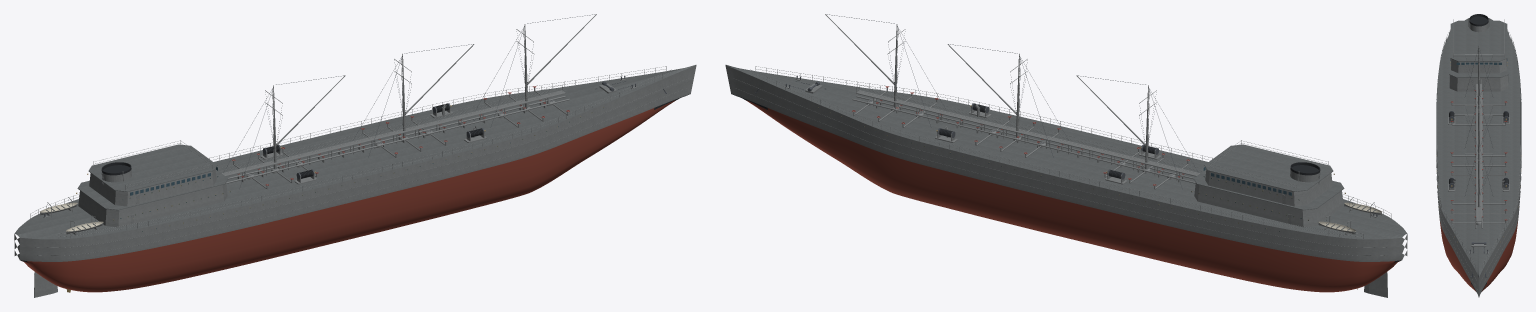
Rendered from maru_depot_t23.glb.
3 views of the same model, side by side, from view 1: azimuth 30°, elevation 25°; view 2: azimuth 150°, elevation 25°; view 3: azimuth 270°, elevation 25° (orthographic). The views are drawn at different scales.
Parts seen in each view (by area): view 1: Standard Maru fleet tender; view 2: Standard Maru fleet tender; view 3: Standard Maru fleet tender.
Part boxes in pixels (<box>): Standard Maru fleet tender: <box>14,14,696,297</box>; Standard Maru fleet tender: <box>725,14,1407,297</box>; Standard Maru fleet tender: <box>1436,14,1521,297</box>.
Size of the model in its own units: 135 by 29.98 by 18.29.
9 materials, 2 textured.
